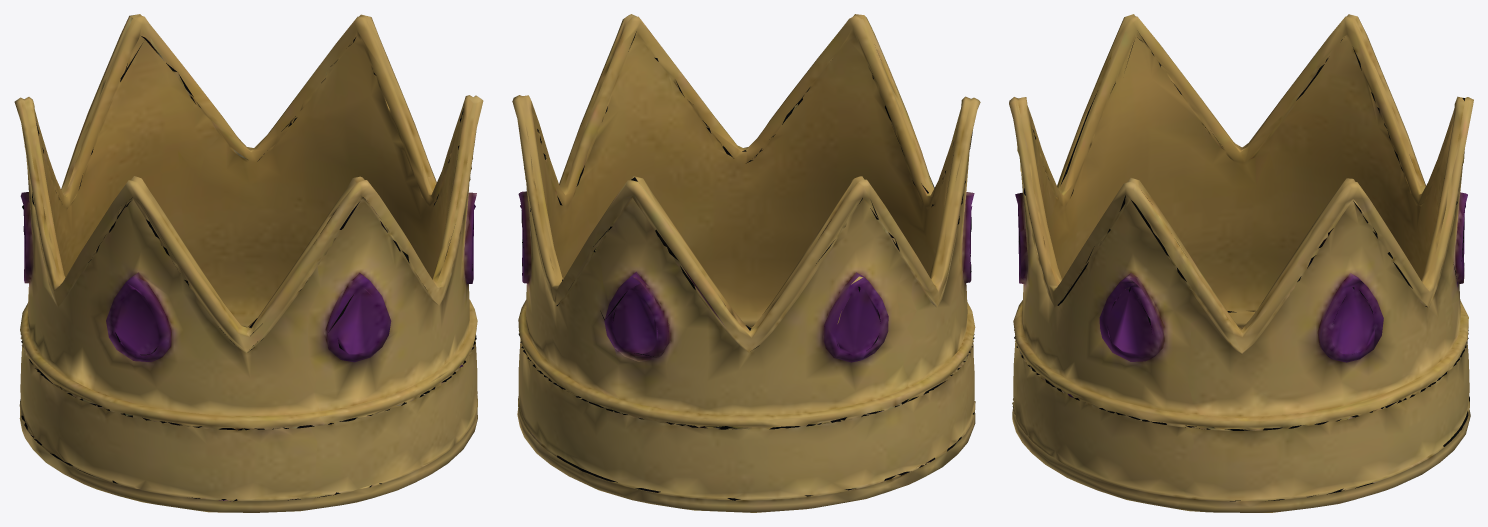
Rendered from crown.glb.
3 views of the same model, side by side, from view 1: azimuth 30°, elevation 25°; view 2: azimuth 150°, elevation 25°; view 3: azimuth 270°, elevation 25° (orthographic).
Visible parts, largest first — view 1: node_0; view 2: node_0; view 3: node_0.
Boxes of the visible parts, x1,y1,x2,y2 form: node_0: [14, 14, 483, 512]; node_0: [512, 14, 980, 512]; node_0: [1009, 14, 1473, 512].
Size of the model in its own units: 0.46 by 0.3559 by 0.4658.
Materials: 1 (1 with a texture image).
